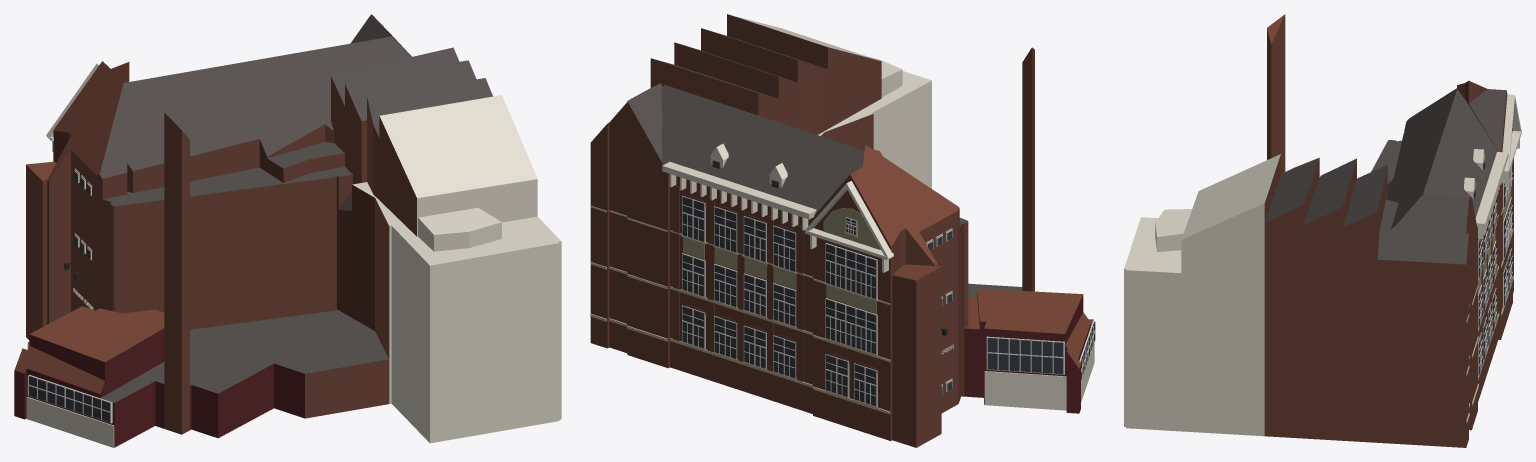
Rendered from reinwardt-academie.glb.
3 views of the same model, side by side, from view 1: azimuth 30°, elevation 25°; view 2: azimuth 150°, elevation 25°; view 3: azimuth 270°, elevation 25° (orthographic). The views are drawn at different scales.
Parts seen in each view (by area): view 1: reinwardt-academie; view 2: reinwardt-academie; view 3: reinwardt-academie.
Part boxes in pixels (x1,y1,x2,y2): reinwardt-academie: [14, 14, 561, 447]; reinwardt-academie: [590, 14, 1095, 447]; reinwardt-academie: [1124, 14, 1521, 447].
Size of the model in its own units: 36.65 by 24.51 by 31.44.
